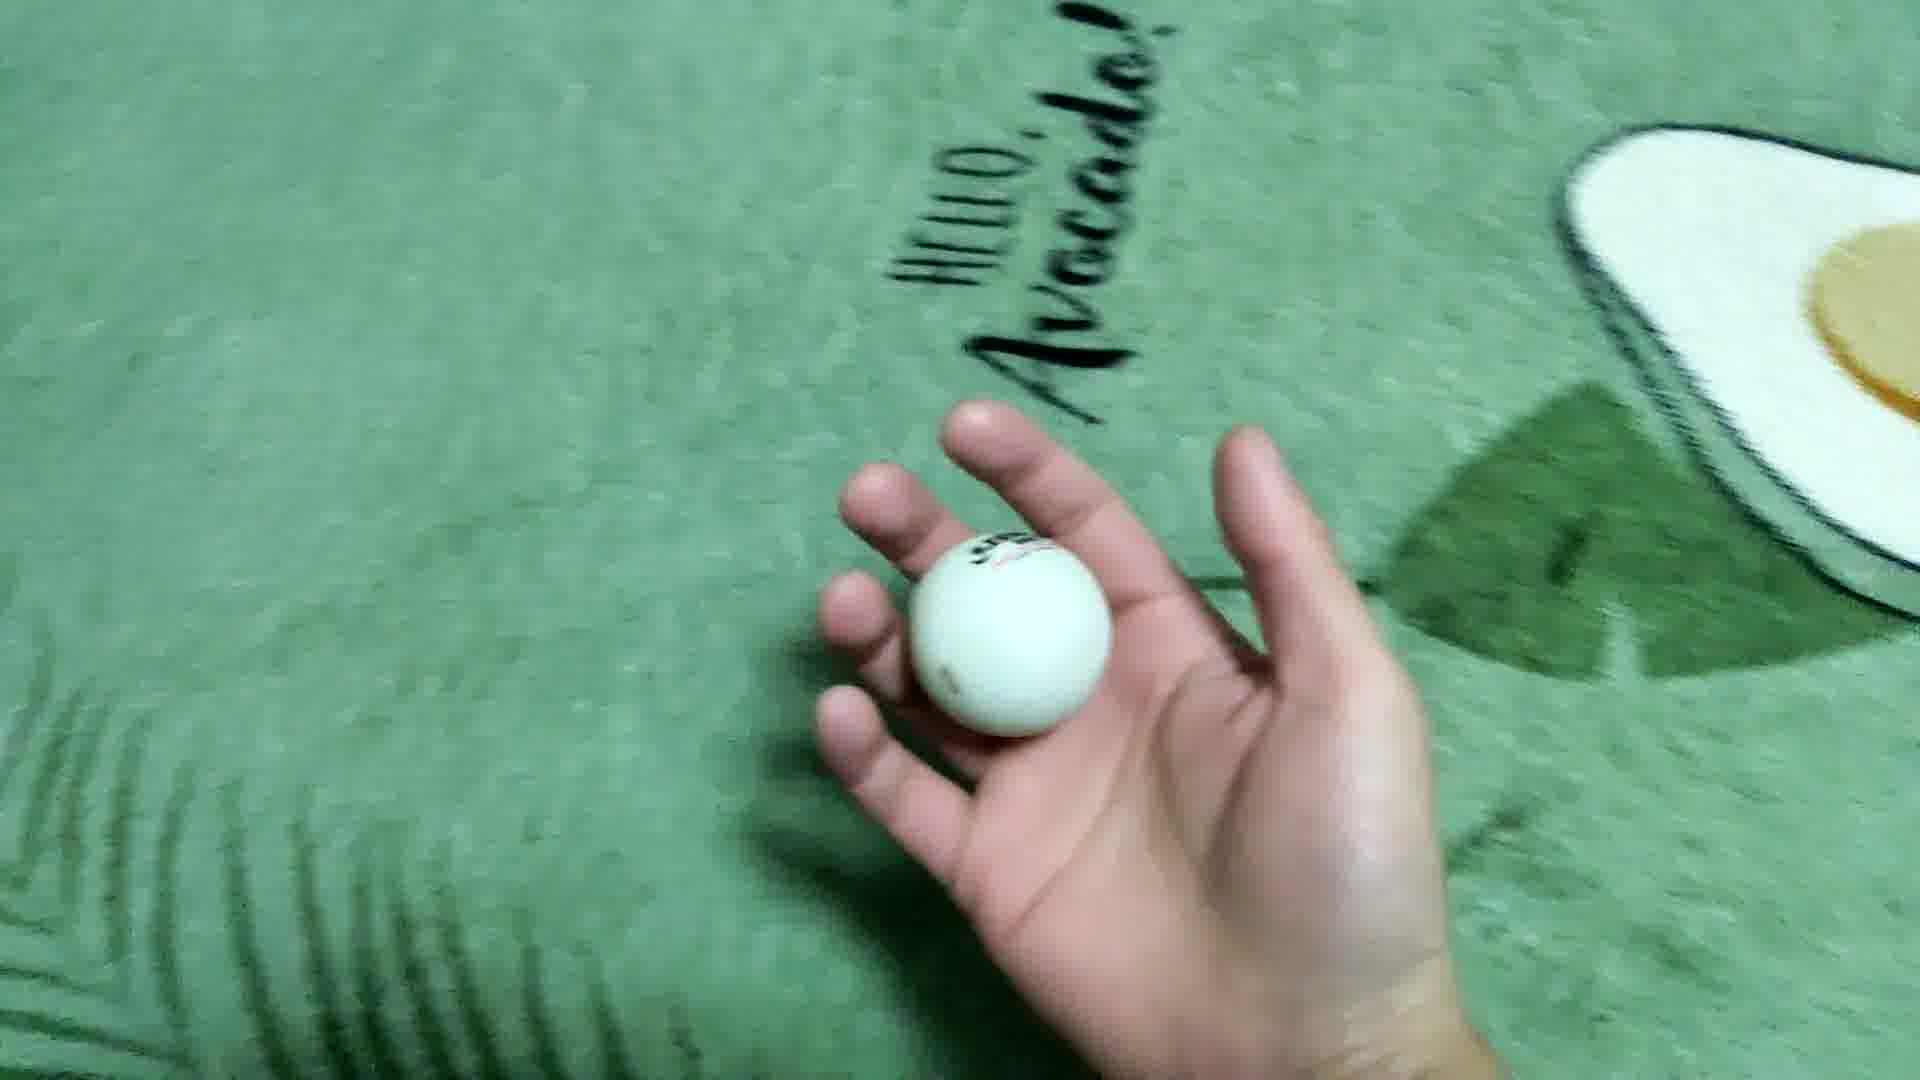Ball: (901, 529, 1114, 742)
